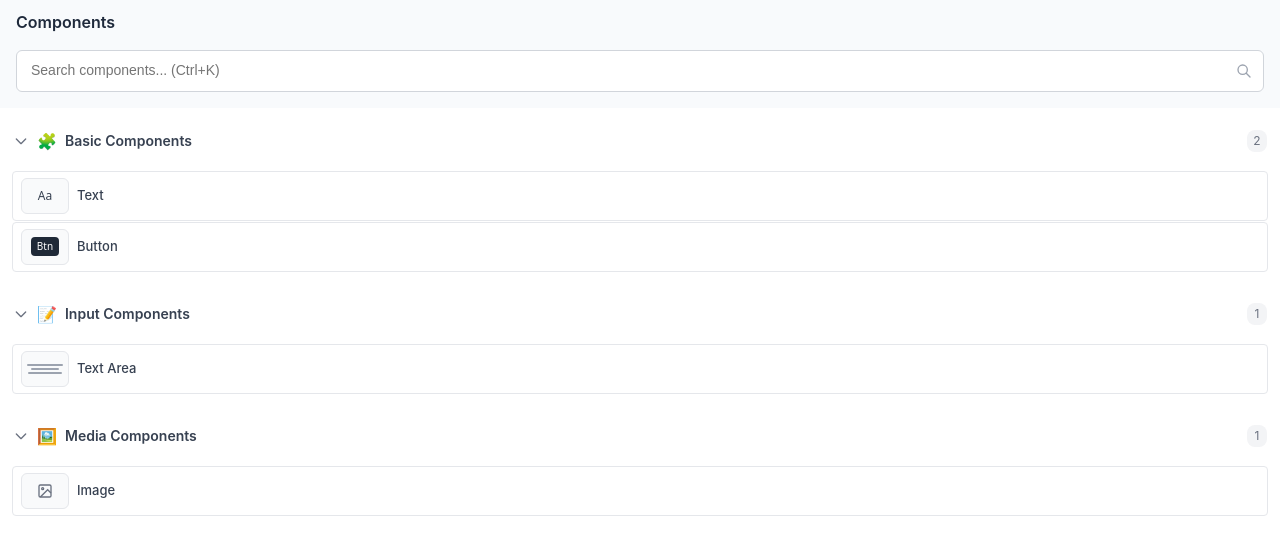
Test: PalettePanel Layout › Category Management › categories can be collapsed and expanded
This screenshot has width=1280, height=533.
Click the button "🧩 Basic Components 2" at [128, 141], box [13,130,1267,152]
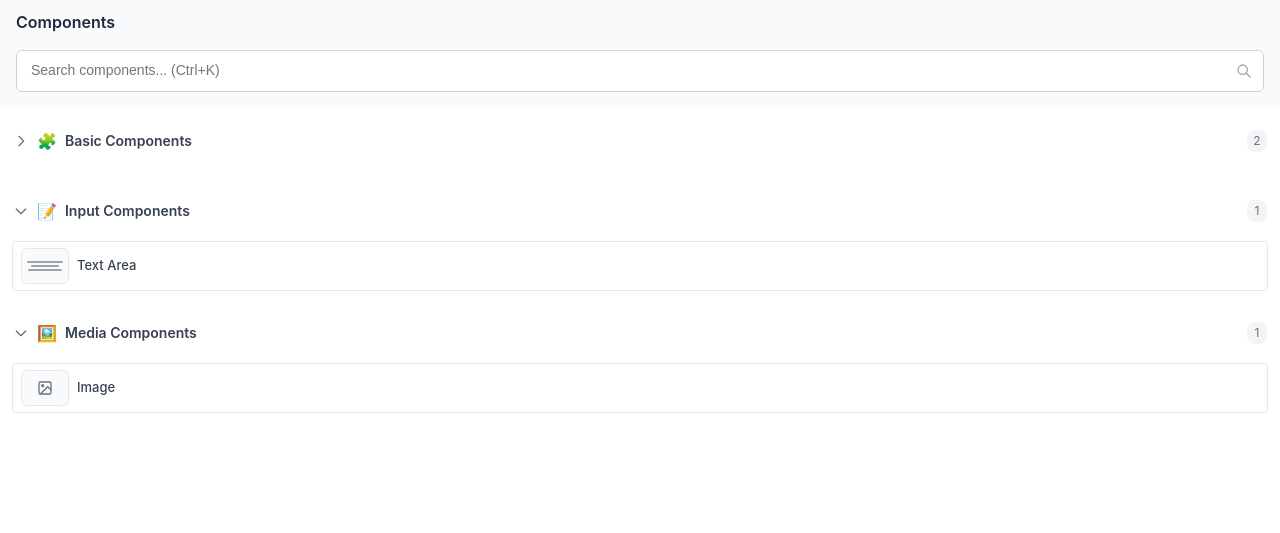
expect the button "🧩 Basic Components 2" is collapsed: met, box [13,130,1267,152]
